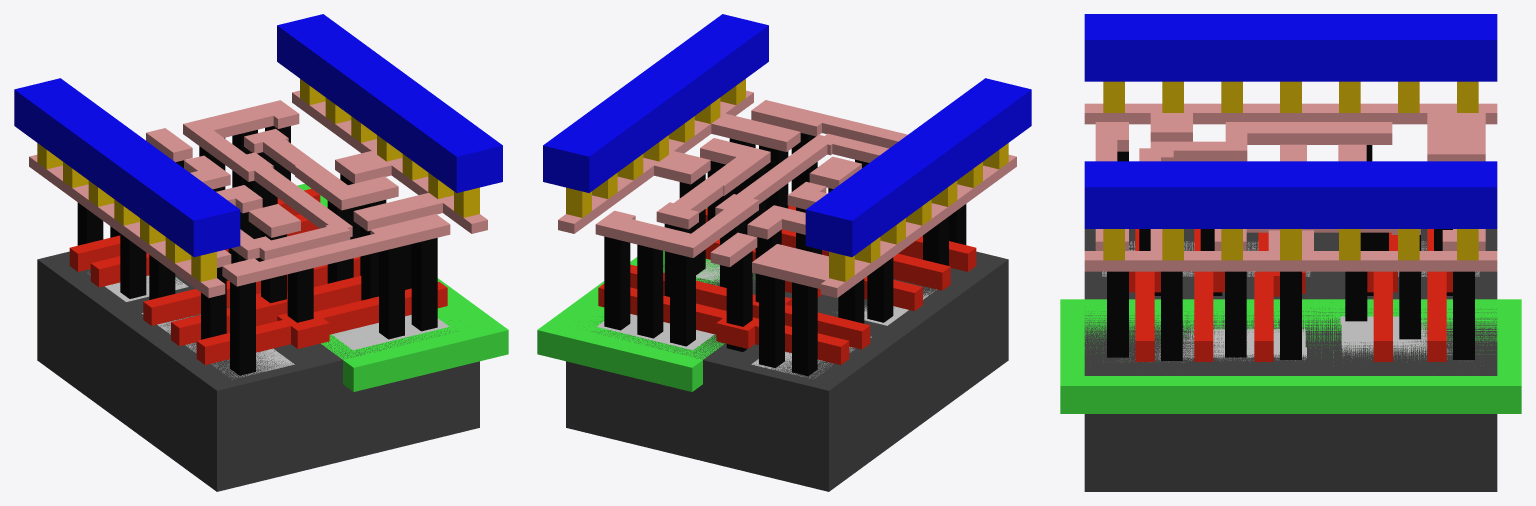
Rendered from sky130_fd_sc_hd__a22o_1.obj.
3 views of the same model, side by side, from view 1: azimuth 30°, elevation 25°; view 2: azimuth 150°, elevation 25°; view 3: azimuth 270°, elevation 25° (orthographic). The views are drawn at different scales.
Visible parts, largest first — view 1: subs, metal1, li, licon, poly, nwell, mcon, diff, tap; view 2: subs, metal1, li, licon, poly, nwell, mcon, tap, diff; view 3: metal1, subs, li, nwell, licon, poly, mcon, tap.
Part boxes in pixels (bbox=[...]): subs: bbox=[37, 251, 479, 491]; metal1: bbox=[14, 14, 502, 257]; li: bbox=[29, 90, 487, 297]; licon: bbox=[77, 126, 437, 375]; poly: bbox=[69, 188, 447, 364]; nwell: bbox=[297, 184, 508, 391]; mcon: bbox=[37, 79, 479, 281]; diff: bbox=[88, 273, 294, 379]; tap: bbox=[331, 315, 449, 350]; subs: bbox=[566, 251, 1008, 491]; metal1: bbox=[543, 14, 1031, 257]; li: bbox=[558, 90, 1016, 297]; licon: bbox=[604, 133, 966, 375]; poly: bbox=[598, 205, 976, 364]; nwell: bbox=[537, 207, 755, 391]; mcon: bbox=[566, 79, 1008, 281]; tap: bbox=[596, 259, 719, 350]; diff: bbox=[751, 288, 936, 378]; metal1: bbox=[1084, 14, 1497, 228]; subs: bbox=[1084, 229, 1497, 491]; li: bbox=[1084, 103, 1497, 271]; nwell: bbox=[1060, 299, 1521, 413]; licon: bbox=[1107, 145, 1474, 360]; poly: bbox=[1129, 229, 1452, 361]; mcon: bbox=[1103, 81, 1478, 260]; tap: bbox=[1122, 316, 1452, 362].
Size of the model in its own units: 3.2 by 2.74 by 3.6.
